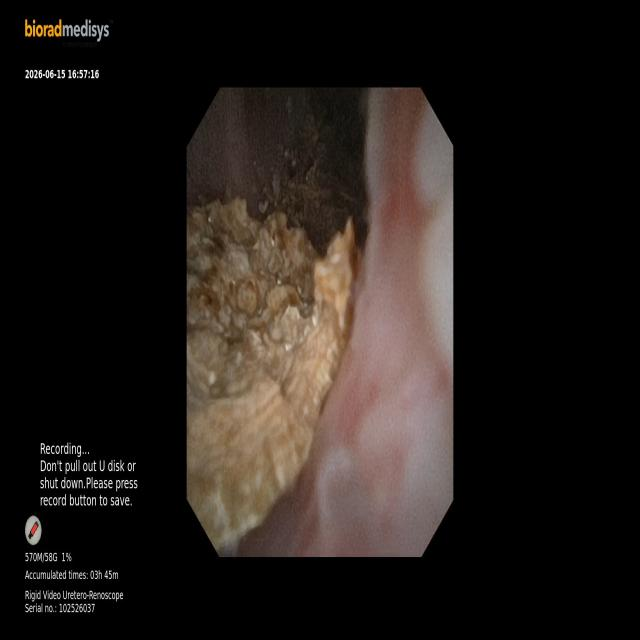laser-fibre: (314, 449, 386, 555)
stone-new: (186, 198, 356, 551)
